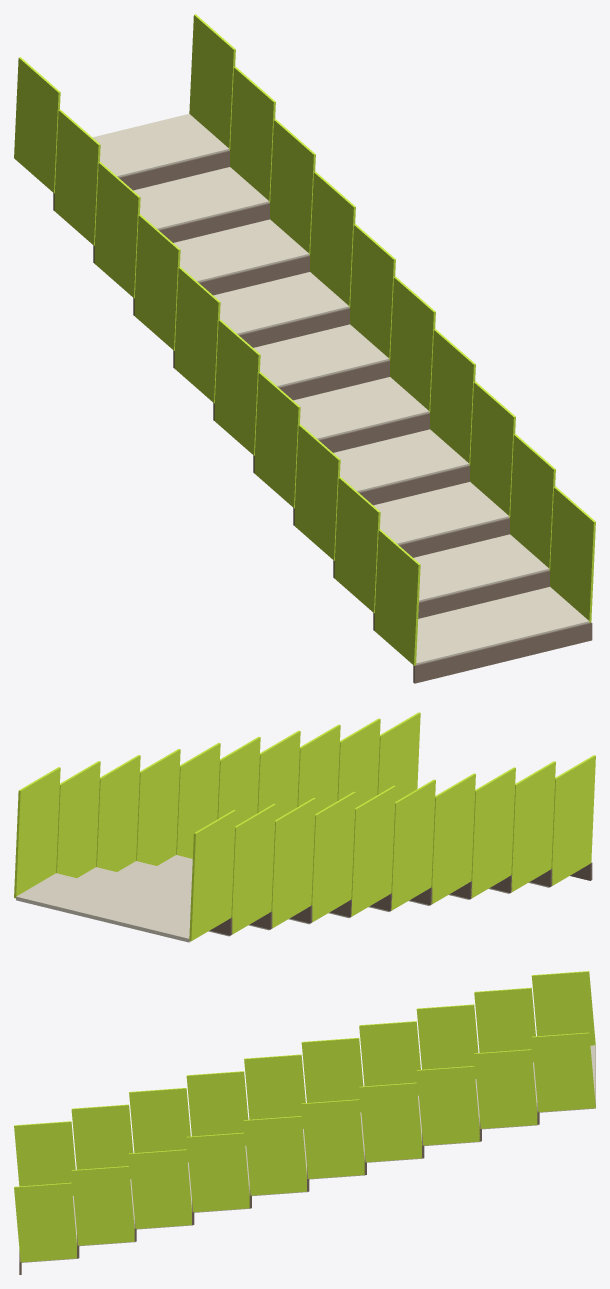
Rendered from visuals.glb.
3 renders of one model, top to bottom at view 1: azimuth 30°, elevation 25°; view 2: azimuth 150°, elevation 25°; view 3: azimuth 270°, elevation 25°, orthographic. The views are drawn at different scales.
Visible parts, largest first — view 1: tread-floor-9, tread-floor-8, tread-floor-0, tread-floor-1, tread-floor-2, tread-floor-3, tread-floor-4, tread-floor-5, tread-floor-6, tread-floor-7, tread-rail-left-9, tread-rail-right-9 (+28 smaller); view 2: tread-floor-0, tread-rail-left-0, tread-rail-right-0, tread-rail-left-4, tread-rail-left-5, tread-rail-left-8, tread-rail-left-7, tread-rail-left-6, tread-rail-left-3, tread-rail-left-1, tread-rail-left-9, tread-rail-left-2 (+12 smaller); view 3: tread-rail-right-0, tread-rail-right-1, tread-rail-right-6, tread-rail-right-8, tread-rail-right-4, tread-rail-right-2, tread-rail-right-3, tread-rail-right-7, tread-rail-right-9, tread-rail-right-5, tread-rail-left-0, tread-rail-left-5 (+8 smaller).
Part boxes in pixels (left/top/right/bottom): tread-floor-9: left=416, top=587, right=589, bottom=664; tread-floor-8: left=413, top=534, right=549, bottom=601; tread-floor-0: left=93, top=114, right=229, bottom=177; tread-floor-1: left=133, top=167, right=269, bottom=229; tread-floor-2: left=173, top=219, right=309, bottom=282; tread-floor-3: left=213, top=272, right=349, bottom=334; tread-floor-4: left=253, top=324, right=389, bottom=387; tread-floor-5: left=293, top=377, right=429, bottom=439; tread-floor-6: left=333, top=429, right=469, bottom=492; tread-floor-7: left=373, top=482, right=509, bottom=544; tread-rail-left-9: left=374, top=529, right=420, bottom=665; tread-rail-right-9: left=550, top=486, right=595, bottom=622; tread-floor-0: left=16, top=873, right=213, bottom=942; tread-rail-left-0: left=189, top=810, right=235, bottom=941; tread-rail-right-0: left=14, top=767, right=60, bottom=898; tread-rail-left-4: left=351, top=785, right=395, bottom=916; tread-rail-left-5: left=391, top=779, right=435, bottom=910; tread-rail-left-8: left=511, top=761, right=555, bottom=892; tread-rail-left-7: left=471, top=767, right=515, bottom=898; tread-rail-left-6: left=431, top=773, right=475, bottom=904; tread-rail-left-3: left=311, top=791, right=355, bottom=922; tread-rail-left-1: left=231, top=804, right=275, bottom=934; tread-rail-left-9: left=551, top=755, right=595, bottom=885; tread-rail-left-2: left=271, top=798, right=315, bottom=928; tread-rail-right-0: left=531, top=1032, right=595, bottom=1112; tread-rail-right-1: left=474, top=1049, right=537, bottom=1128; tread-rail-right-6: left=186, top=1132, right=249, bottom=1212; tread-rail-right-8: left=71, top=1166, right=134, bottom=1245; tread-rail-right-4: left=301, top=1099, right=364, bottom=1178; tread-rail-right-2: left=416, top=1066, right=480, bottom=1145; tread-rail-right-3: left=359, top=1082, right=422, bottom=1162; tread-rail-right-7: left=129, top=1149, right=191, bottom=1228; tread-rail-right-9: left=14, top=1182, right=76, bottom=1262; tread-rail-right-5: left=244, top=1116, right=306, bottom=1195; tread-rail-left-0: left=531, top=971, right=595, bottom=1045; tread-rail-left-5: left=244, top=1054, right=305, bottom=1128.
Bounding box in the file's own units: 0.512 × 0.9271 × 2.02.
